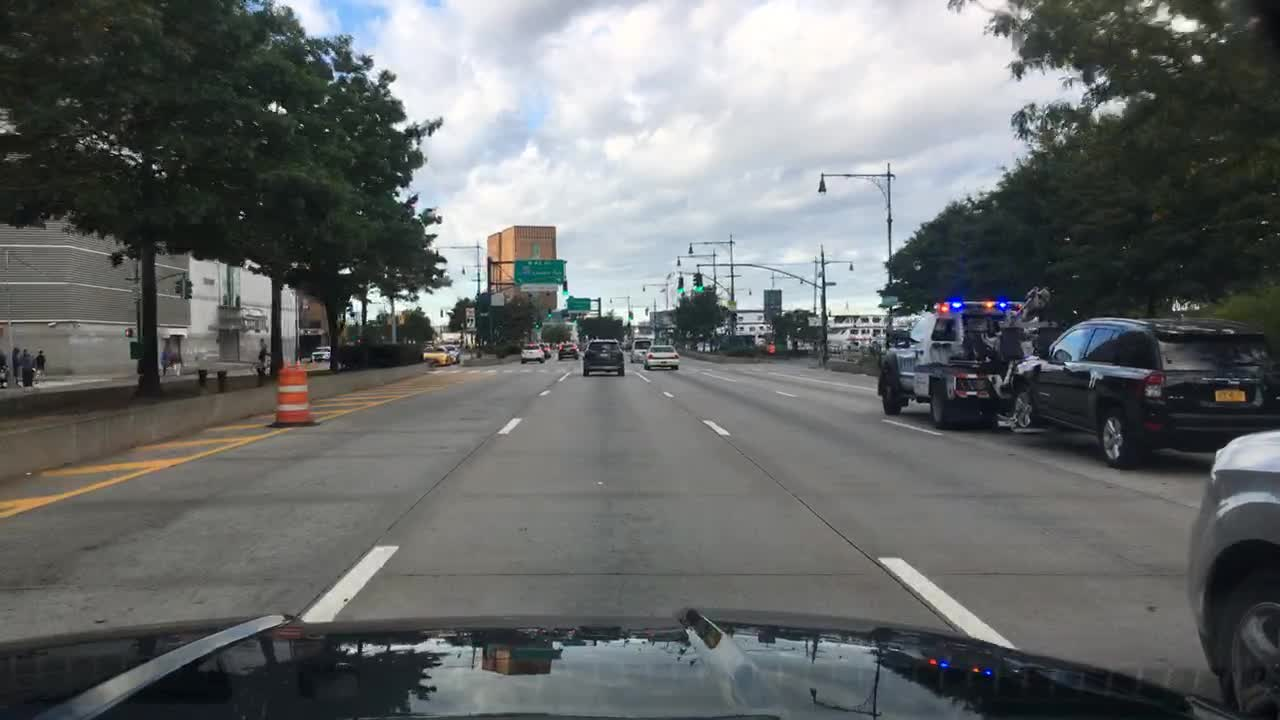car: (1006, 313, 1278, 474), (1185, 428, 1278, 716), (580, 338, 626, 377), (641, 345, 680, 372), (420, 344, 451, 364), (628, 337, 652, 362), (517, 343, 544, 364), (556, 342, 578, 362), (309, 345, 331, 362), (540, 339, 552, 357), (449, 339, 457, 363)
person: (17, 348, 33, 385), (31, 348, 47, 382), (9, 344, 23, 377), (255, 332, 265, 372)
traffic light: (676, 272, 686, 295), (172, 274, 182, 297), (693, 272, 703, 293), (185, 276, 193, 299), (123, 325, 134, 337), (561, 277, 568, 295)
traffic sign: (514, 258, 565, 288), (566, 298, 590, 314), (464, 307, 476, 329)
truck: (877, 288, 1054, 429)
